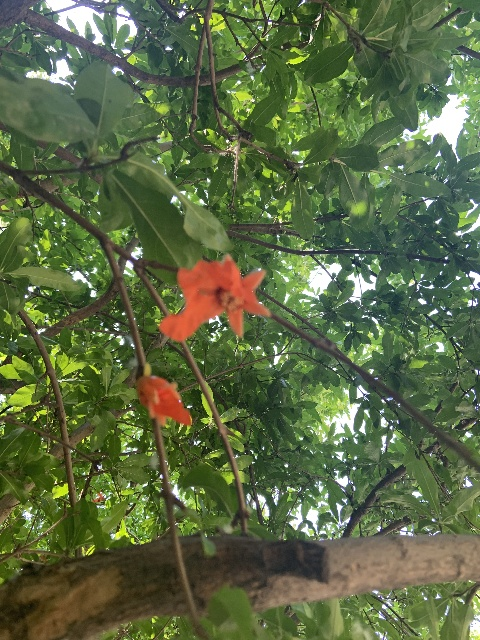flower: (159, 254, 270, 340), (137, 375, 191, 427), (92, 491, 103, 502)
